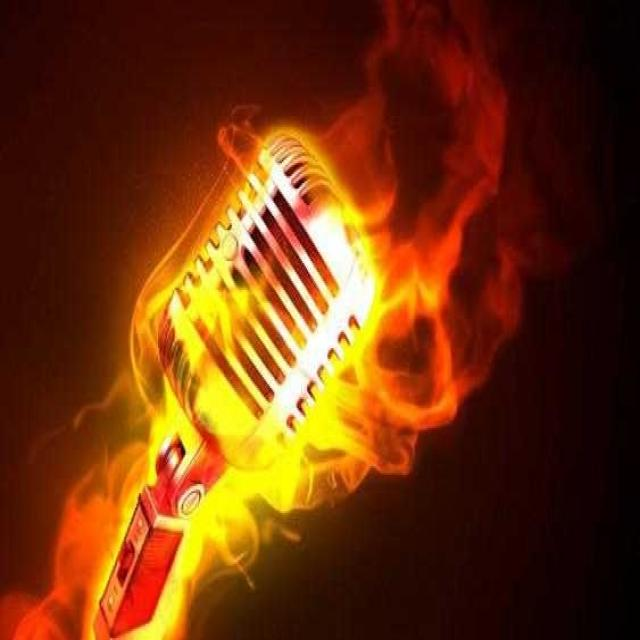microphone: (159, 103, 395, 469)
